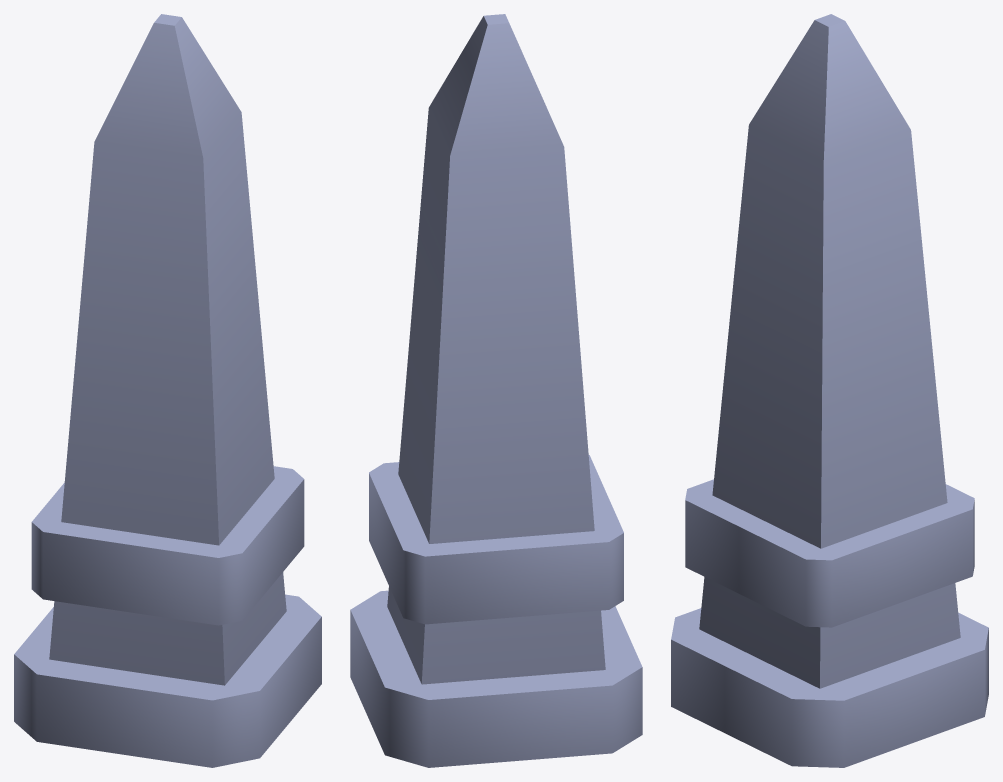
The model's file is pillar-obelisk.001_lev3.glb.
3 renders of one model, left to right at view 1: azimuth 30°, elevation 25°; view 2: azimuth 150°, elevation 25°; view 3: azimuth 270°, elevation 25°, orthographic.
Visible parts, largest first — view 1: pillar-obelisk.001_lev3; view 2: pillar-obelisk.001_lev3; view 3: pillar-obelisk.001_lev3.
Part boxes in pixels (x1,y1,x2,y2): pillar-obelisk.001_lev3: (14, 14, 321, 767); pillar-obelisk.001_lev3: (350, 14, 642, 767); pillar-obelisk.001_lev3: (671, 14, 988, 767).
Size of the model in its own units: 6.98 by 16.49 by 6.98.
Materials: 1 (1 with a texture image).
